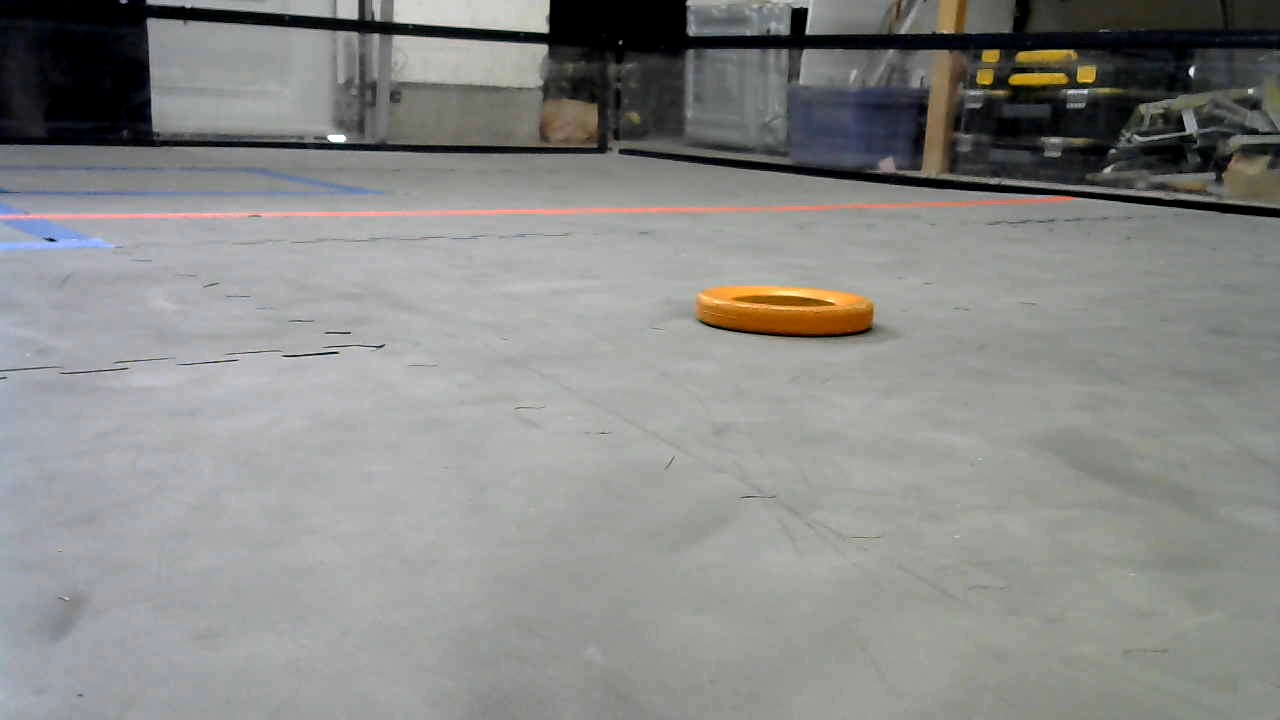OneStack: (697, 281, 874, 340)
